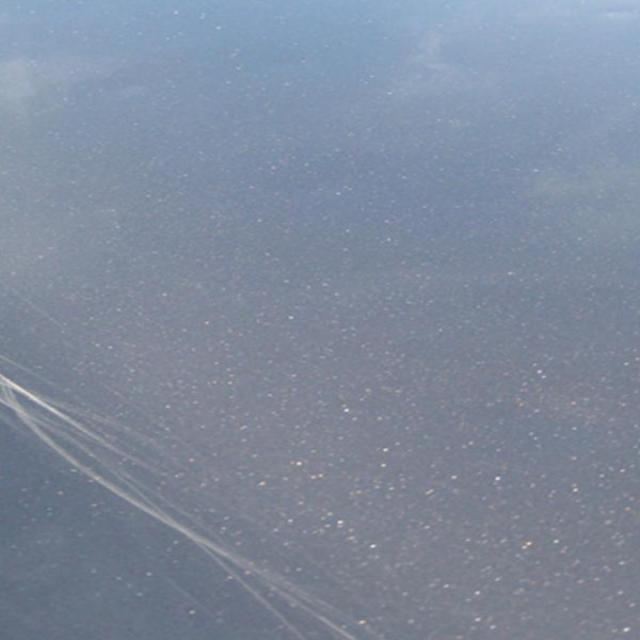scratch: (5, 359, 378, 640)
